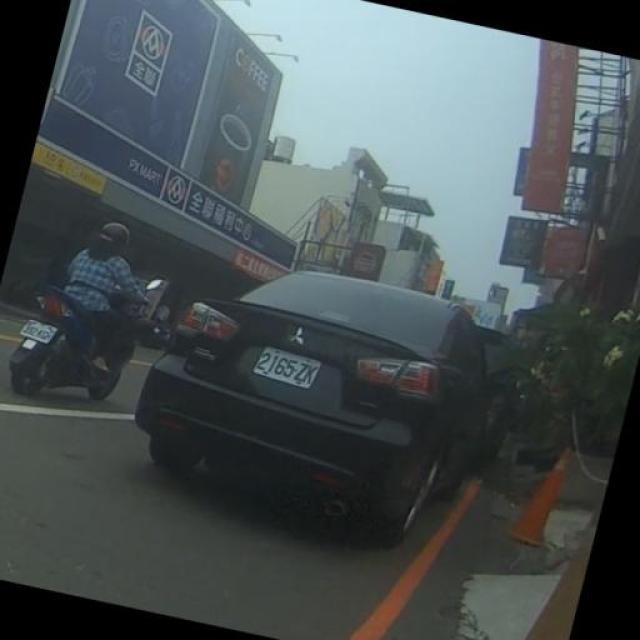Legalparking: (133, 194, 499, 576)
